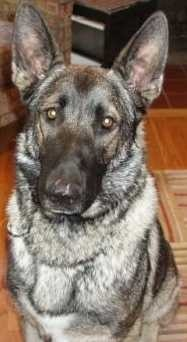dog: (0, 9, 160, 324)
